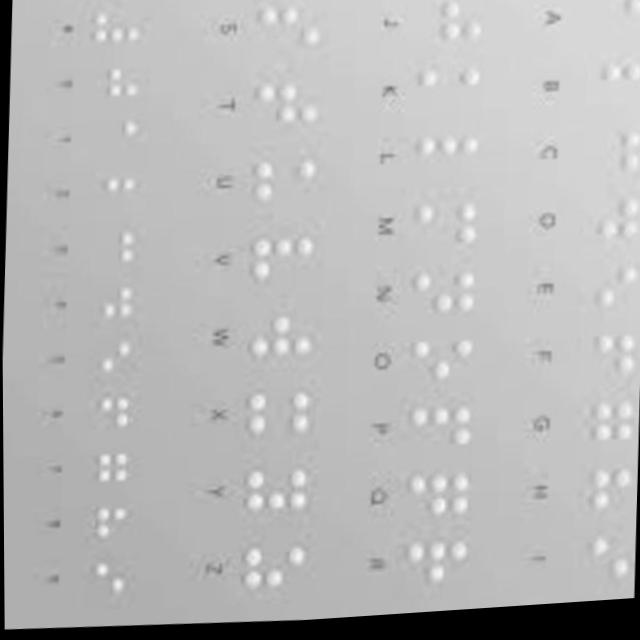braiile: (226, 534, 317, 605), (231, 305, 323, 375), (227, 458, 320, 527), (402, 60, 493, 130), (232, 228, 324, 297), (235, 149, 325, 218), (389, 535, 480, 602), (230, 383, 321, 449), (400, 196, 487, 264), (394, 401, 483, 467), (391, 468, 480, 534), (549, 399, 639, 464), (242, 71, 328, 139), (395, 332, 483, 398), (548, 466, 637, 531), (397, 265, 486, 330), (242, 0, 328, 66), (558, 261, 640, 326), (401, 0, 492, 58), (557, 332, 640, 395), (550, 536, 635, 597), (559, 198, 640, 261), (402, 130, 487, 190), (564, 131, 640, 198), (569, 60, 640, 131), (569, 0, 640, 61)
